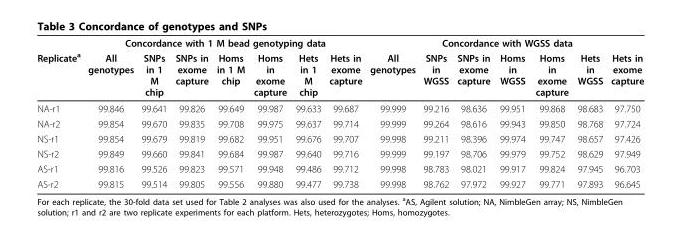table: (36, 36, 643, 189)
table column: (83, 36, 136, 189), (365, 36, 418, 189), (36, 36, 83, 189), (529, 36, 572, 189), (248, 36, 290, 189), (452, 36, 494, 189), (170, 36, 211, 189), (324, 36, 365, 189), (211, 36, 248, 189), (606, 36, 643, 189), (494, 36, 529, 189), (136, 36, 170, 189), (290, 36, 324, 189), (418, 36, 452, 189), (572, 36, 606, 189)
table column header: (36, 36, 643, 99)
table row: (36, 49, 643, 99), (36, 99, 643, 115), (36, 160, 643, 176), (36, 115, 643, 130), (36, 130, 643, 145), (36, 145, 643, 160), (36, 36, 643, 49), (36, 176, 643, 189)
table spanning cell: (83, 36, 365, 49), (365, 36, 643, 49), (36, 36, 83, 99)
